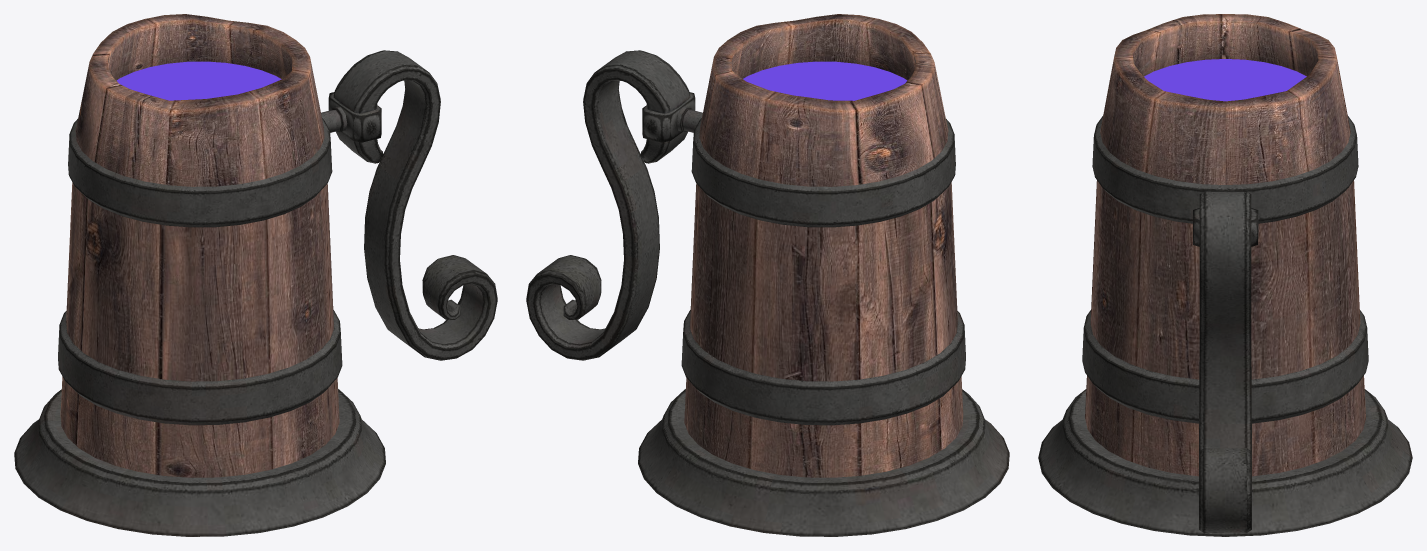
Rendered from tankard_medieval.glb.
The picture shows the model from 3 angles, left to right: view 1: azimuth 30°, elevation 25°; view 2: azimuth 150°, elevation 25°; view 3: azimuth 270°, elevation 25°; orthographic projection.
Parts seen in each view (by area): view 1: Tankard_Tankard_0; view 2: Tankard_Tankard_0; view 3: Tankard_Tankard_0.
Part boxes in pixels (bbox=[...]): Tankard_Tankard_0: bbox=[14, 14, 497, 536]; Tankard_Tankard_0: bbox=[526, 14, 1009, 536]; Tankard_Tankard_0: bbox=[1038, 14, 1412, 536].
Bounding box in the file's own units: 0.3224 × 0.2748 × 0.2321.
1 material, 1 textured.
